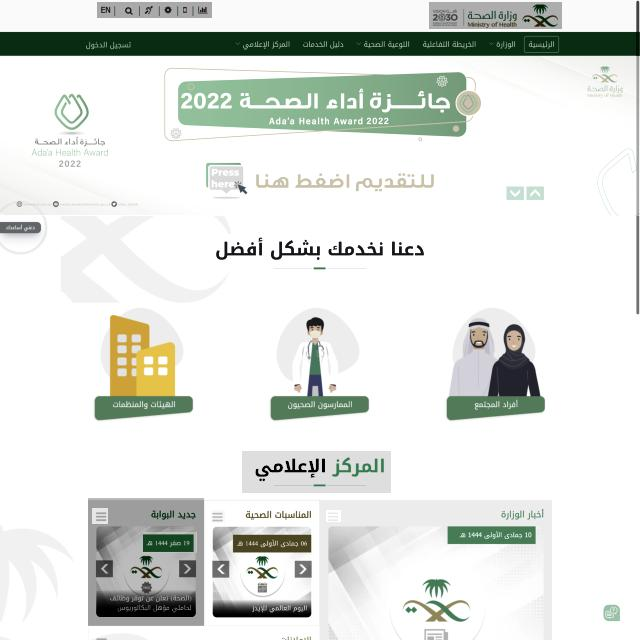CheckBox: (602, 603, 621, 624)
RadioButton: (144, 532, 198, 553)
Spinner: (89, 498, 204, 626), (204, 499, 320, 625)
bag: (0, 0, 640, 56)
breadcrumbs: (242, 451, 391, 493)
card: (0, 55, 640, 216)
date picker: (429, 2, 562, 29)
decoration: (0, 32, 637, 55), (97, 2, 212, 18), (92, 508, 109, 524), (211, 510, 225, 523), (326, 510, 341, 522)
image: (214, 235, 426, 272)
